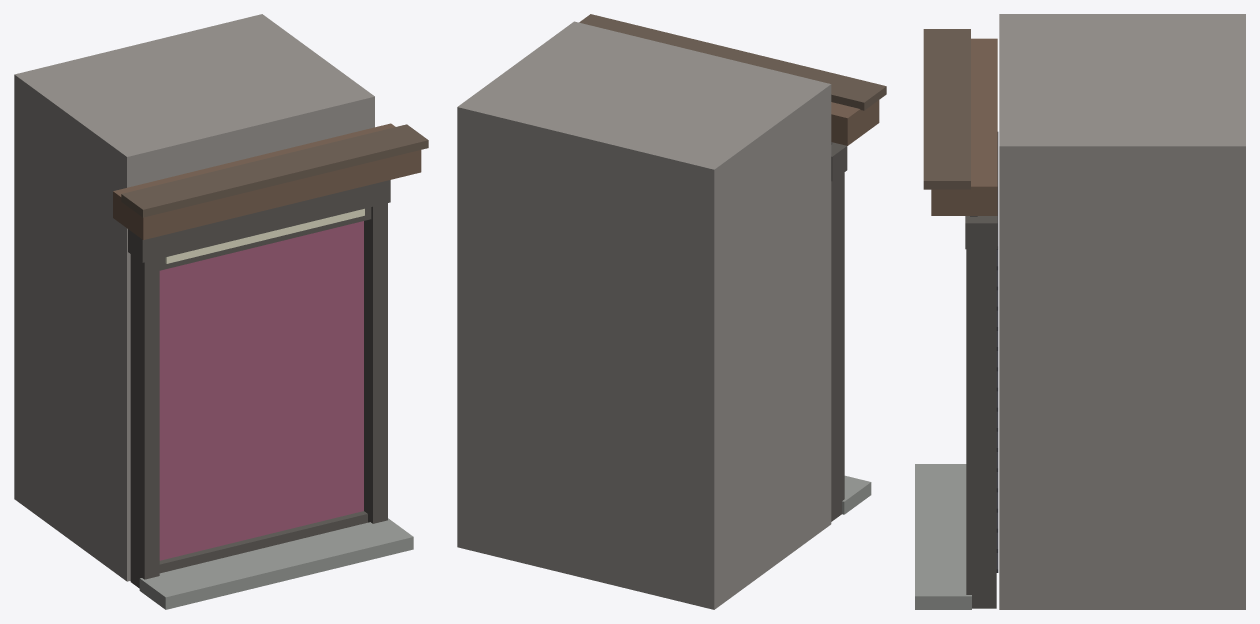
The model's file is prop_shutter_shop_wine.glb.
The picture shows the model from 3 angles, left to right: view 1: azimuth 30°, elevation 25°; view 2: azimuth 150°, elevation 25°; view 3: azimuth 270°, elevation 25°; orthographic projection. The views are drawn at different scales.
Visible parts, largest first — view 1: shutter_shop_wine; view 2: shutter_shop_wine; view 3: shutter_shop_wine.
Boxes of the visible parts, bbox=[...] form: shutter_shop_wine: bbox=[14, 14, 428, 609]; shutter_shop_wine: bbox=[457, 14, 886, 609]; shutter_shop_wine: bbox=[915, 14, 1245, 609].
Bounding box in the file's own units: 3.8 × 5.4 × 3.49.
